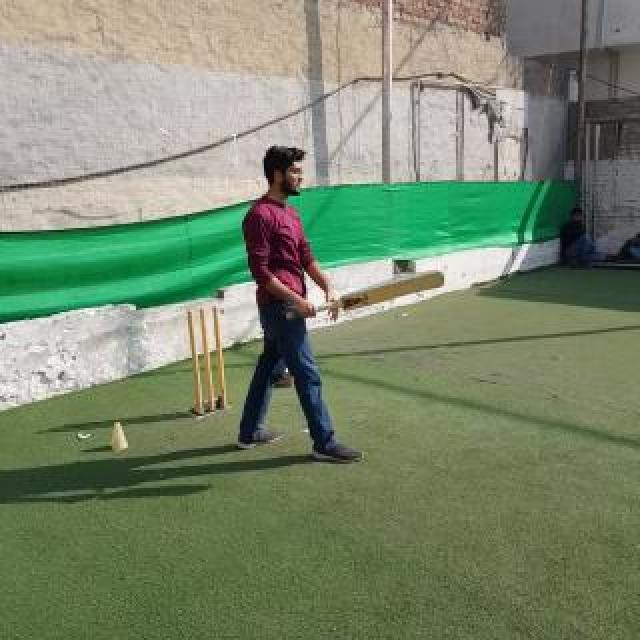bat: (286, 270, 444, 322)
